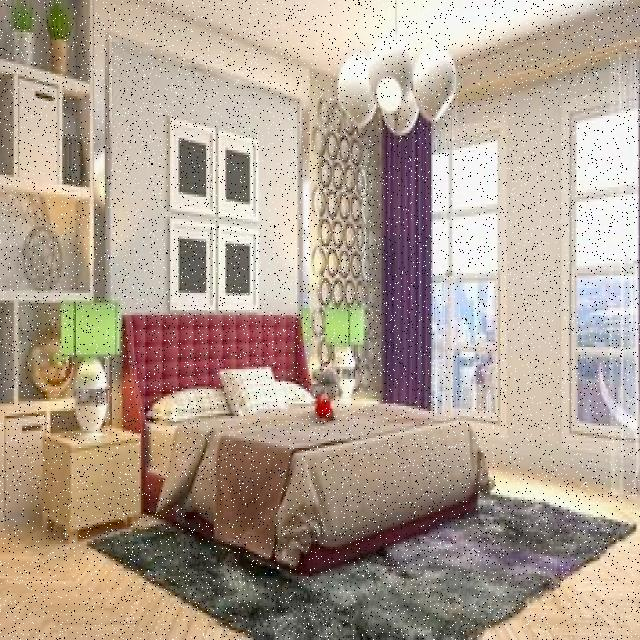bed: (121, 308, 483, 544)
